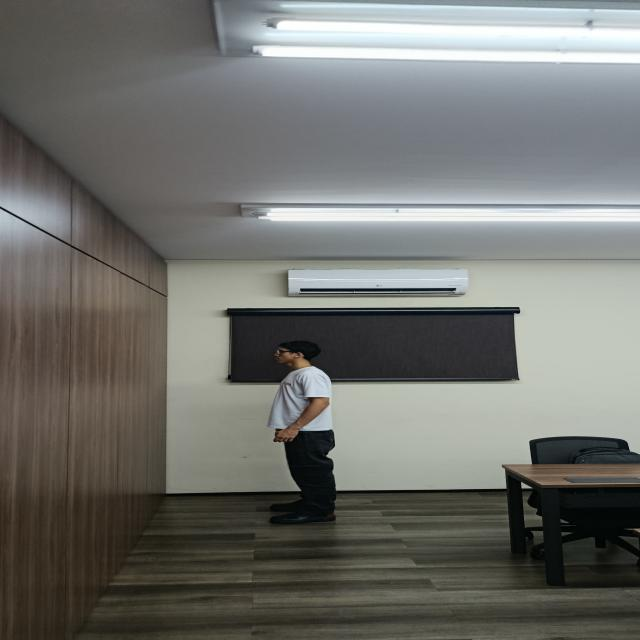sem_oculos: (277, 349, 291, 354)
